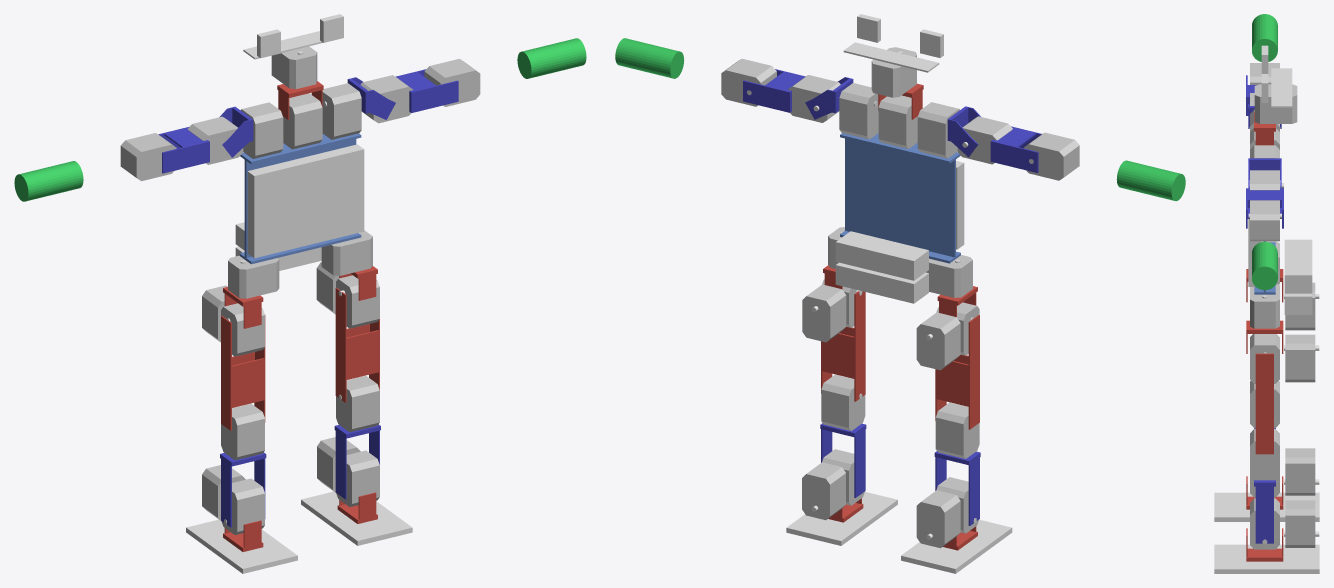
The model's file is robot_v7.dae.
3 views of the same model, side by side, from view 1: azimuth 30°, elevation 25°; view 2: azimuth 150°, elevation 25°; view 3: azimuth 270°, elevation 25° (orthographic). The views are drawn at different scales.
Visible parts, largest first — view 1: electronics, right_foot, left_foot, Central, left_arm_servo1, left_leg_servo4, right_leg_servo4, left_hand, right_hand, right_leg_servo1, head_servo1, right_arm_servo3 (+28 smaller); view 2: Central, Central_physical, battery1, fr07-101_005, fr07-101_004, left_foot, right_foot, battery2, right_leg_servo3, right_leg_servo5, left_leg_servo3, left_leg_servo5 (+23 smaller); view 3: left_foot, fr07-101_004, battery1, right_foot, left_leg_servo3, left_leg_servo5, right_leg_servo5, left_arm_servo3, fr07-101_002, left_hand, head_servo2, left_leg_servo1 (+25 smaller).
Part boxes in pixels (x1,y1,x2,y2): electronics: (247, 144, 364, 258); right_foot: (186, 519, 297, 573); left_foot: (301, 491, 412, 545); Central: (239, 133, 361, 264); left_arm_servo1: (322, 83, 361, 139); left_leg_servo4: (336, 375, 379, 432); right_leg_servo4: (221, 403, 264, 460); left_hand: (517, 38, 586, 78); right_hand: (14, 161, 83, 201); right_leg_servo1: (228, 255, 279, 298); head_servo1: (283, 93, 322, 149); right_arm_servo3: (120, 133, 176, 181); Central: (840, 133, 960, 263); Central_physical: (845, 137, 955, 258); battery1: (835, 231, 928, 280); fr07-101_005: (935, 315, 979, 429); fr07-101_004: (821, 291, 865, 401); left_foot: (786, 492, 897, 545); right_foot: (901, 519, 1012, 573); battery2: (835, 262, 928, 303); right_leg_servo3: (916, 312, 960, 370); right_leg_servo5: (916, 490, 960, 548); left_leg_servo3: (802, 284, 846, 342); left_leg_servo5: (802, 462, 845, 520); left_foot: (1214, 544, 1319, 573); fr07-101_004: (1255, 353, 1273, 454); battery1: (1284, 239, 1312, 293); right_foot: (1214, 492, 1319, 521); left_leg_servo3: (1285, 334, 1315, 382); left_leg_servo5: (1285, 500, 1315, 547); right_leg_servo5: (1285, 448, 1315, 495); left_arm_servo3: (1250, 200, 1279, 241); fr07-101_002: (1254, 480, 1275, 543); left_hand: (1252, 241, 1277, 290); head_servo2: (1254, 84, 1297, 123); left_leg_servo1: (1250, 284, 1279, 328).
Bounding box in the file's own units: 7.1 × 1.25 × 6.18.
